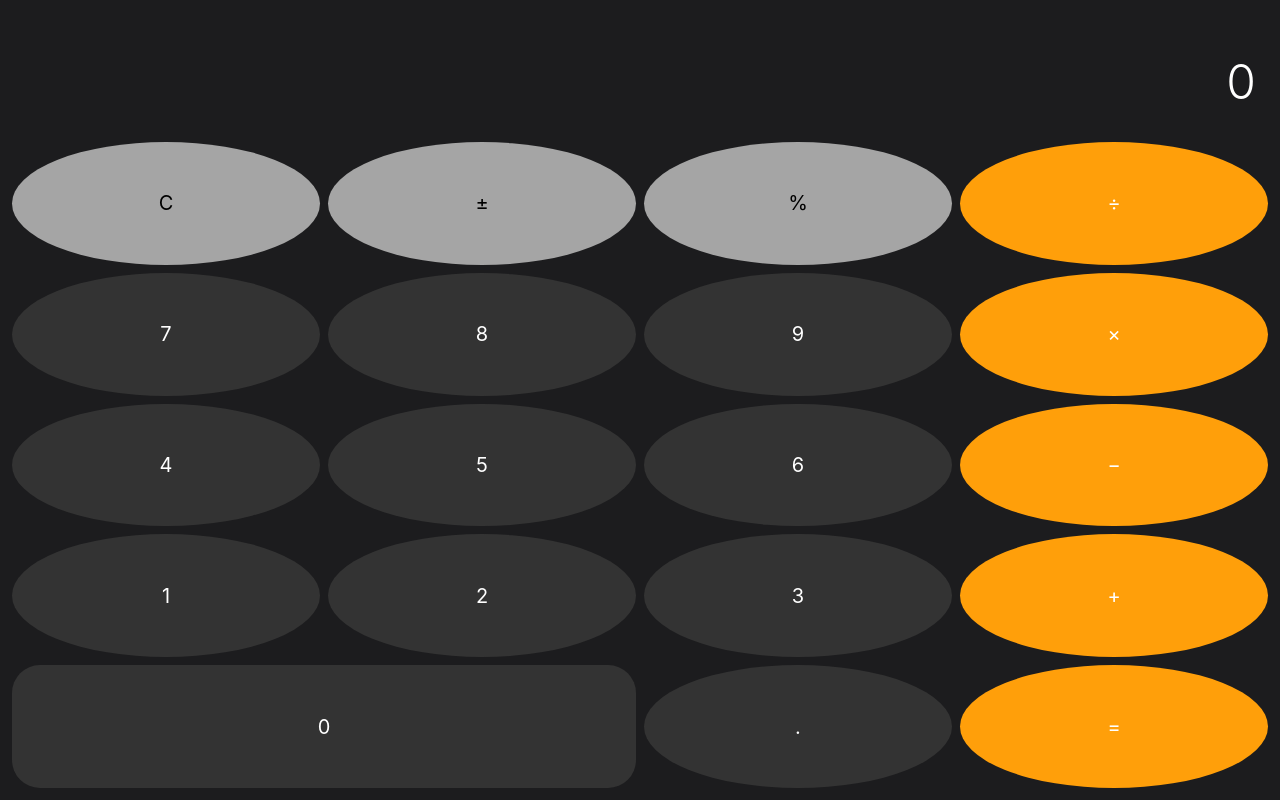
Calculator › computes 7 * 8 = 56
What coordinates should you click on to do the following:
click the button with test id "calc-7"
I would click on:
 (166, 334)
Its box is [12,273,320,396].
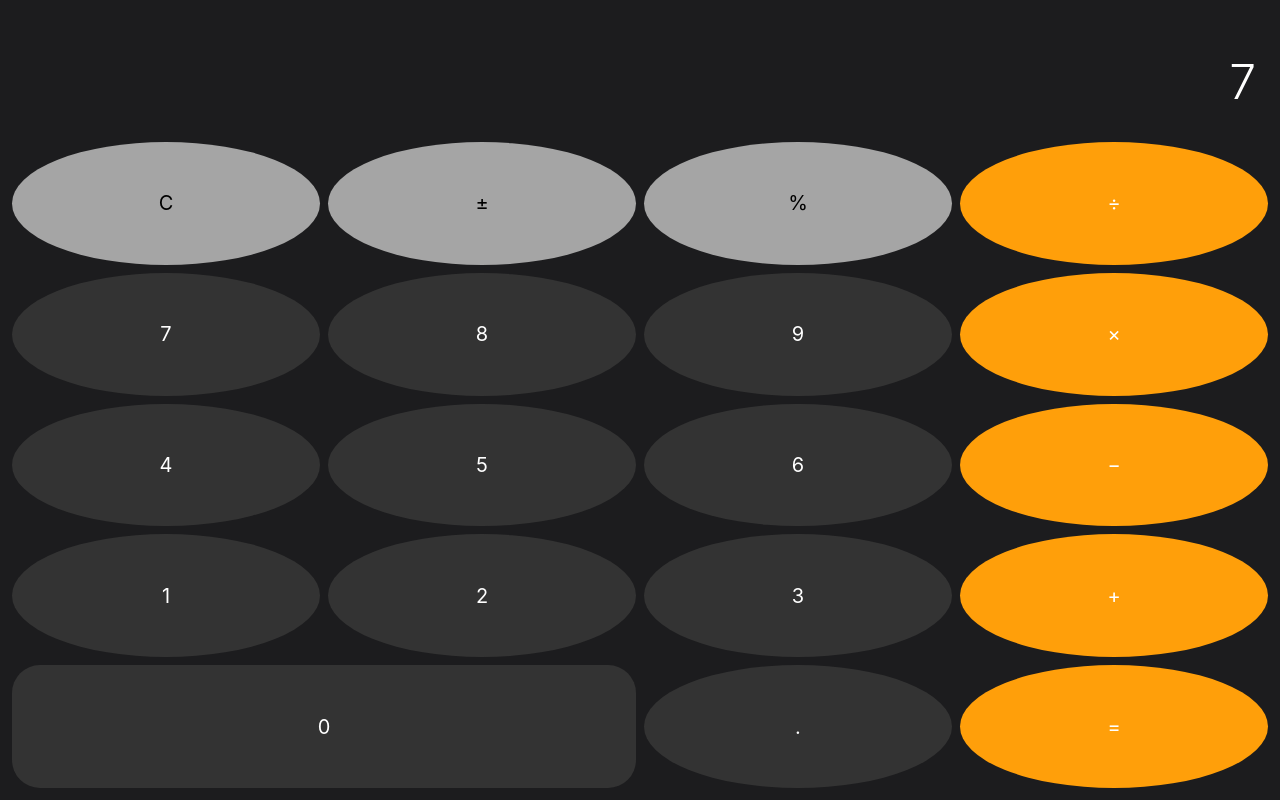
What coordinates should you click on to do the following:
click the button with test id "calc-multiply"
I would click on:
 (1114, 334)
Its box is [960,273,1268,396].
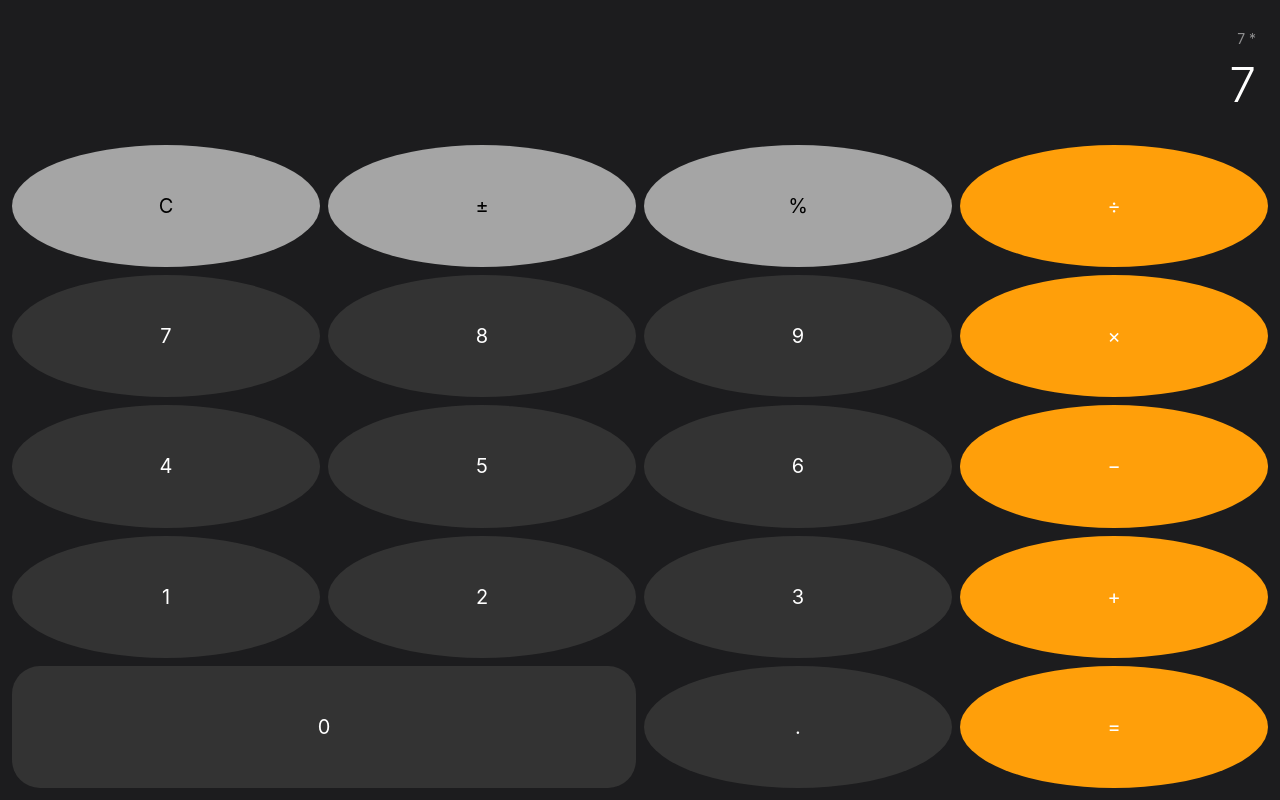
What coordinates should you click on to do the following:
click the button with test id "calc-8"
I would click on:
 (482, 336)
Its box is [328,275,636,397].
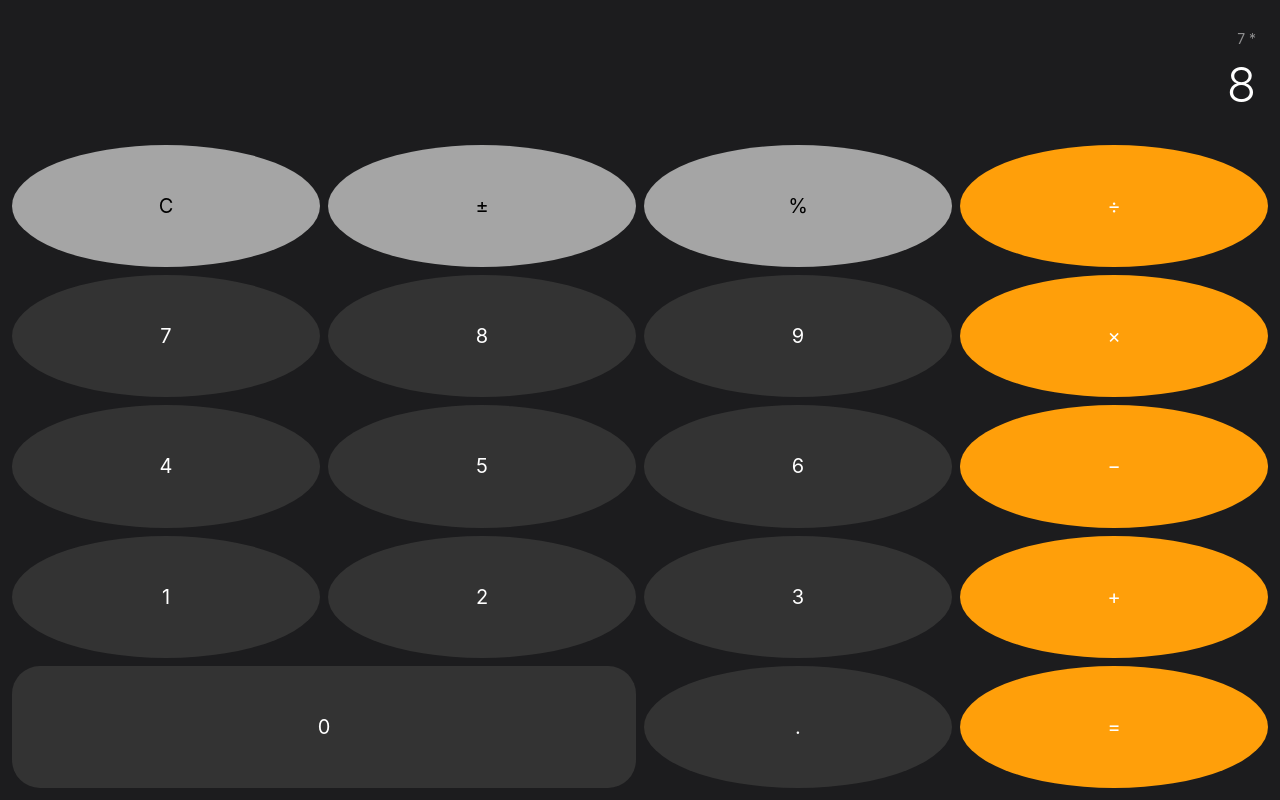
What coordinates should you click on to do the following:
click the button with test id "calc-equals"
I would click on:
 (1114, 727)
Its box is [960,666,1268,788].
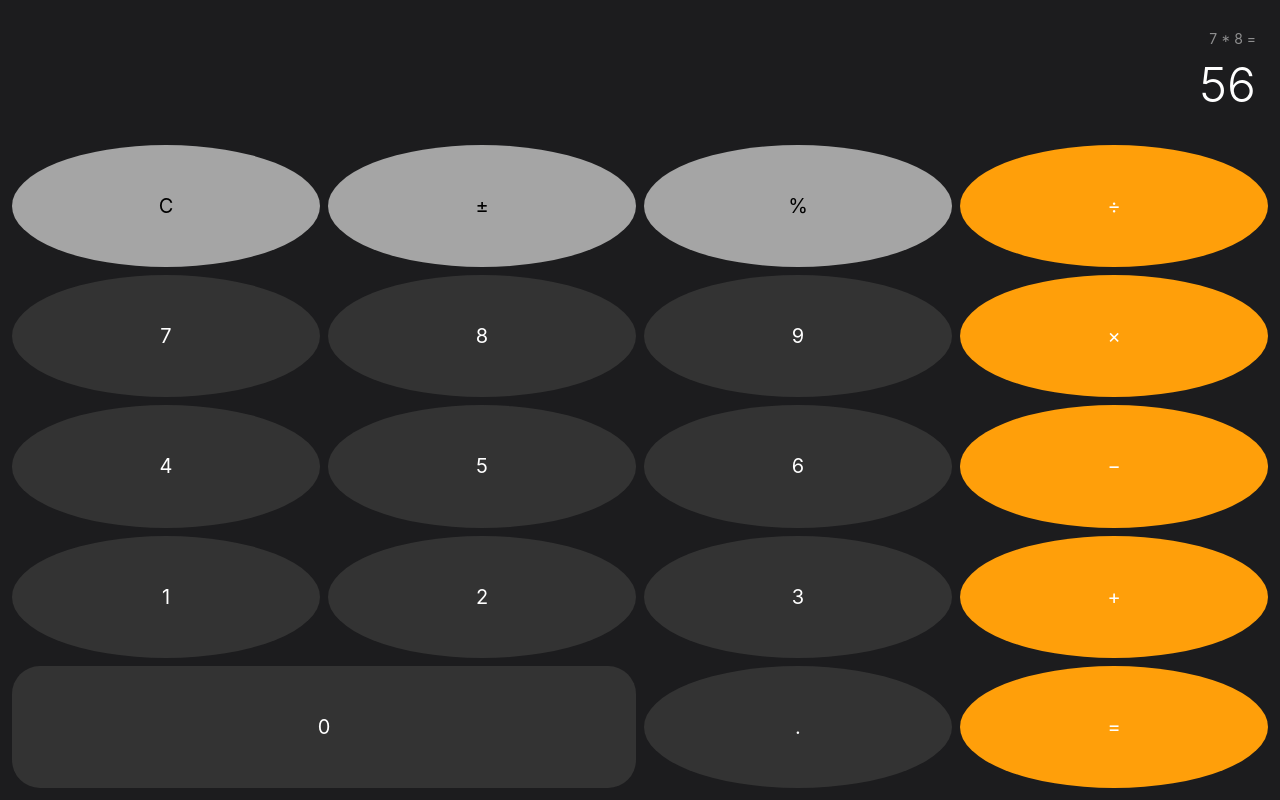
expect the text with test id "calc-display" reads "56": met, box [1199,55,1256,114]
